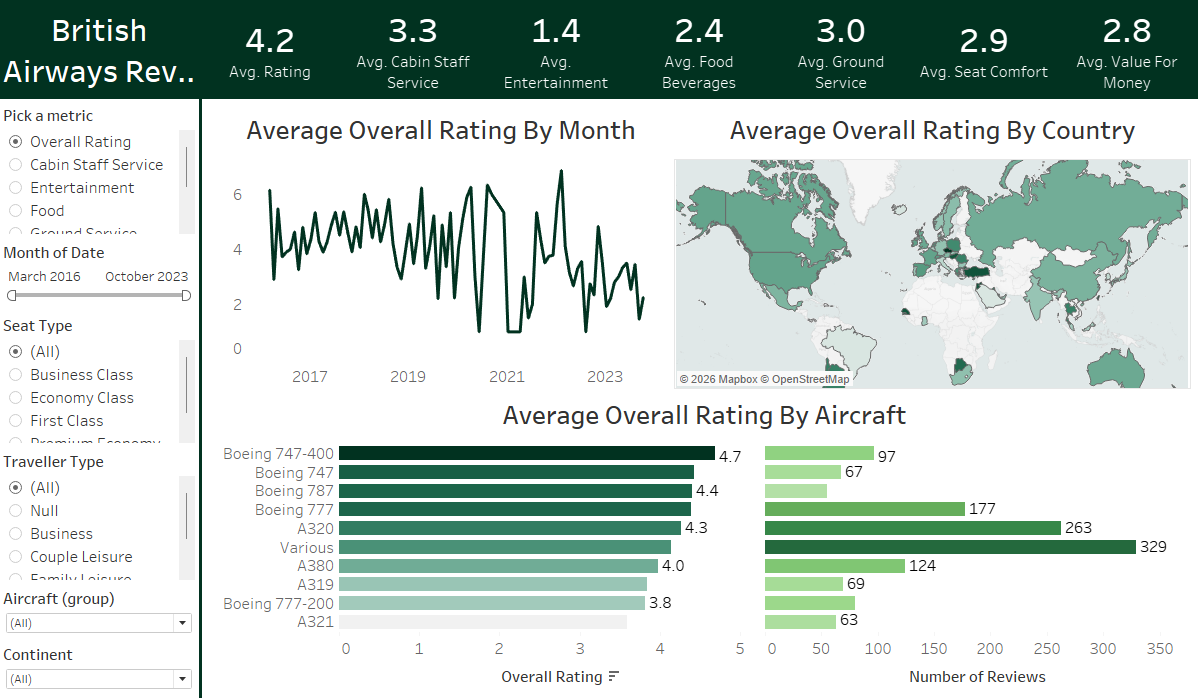

The page's visual inventory and layout, read from the dashboard file:
{"tool":"tableau","page":{"name":"Dashboard 1","canvas":[1000,1000],"units":"permille","ordinal":0},"visuals":[{"type":"text","box":[0,0,166.7,142.9]},{"type":"worksheet","title":"Sheet 2","mark":"Automatic","box":[166.7,0,824.2,142.9]},{"type":"parameter","param":"[Parameters].[Parameter 1]","box":[0,142.9,205.8,231.8]},{"type":"worksheet","title":"Sheet 1","mark":"Automatic","box":[623.3,171.4,365.8,397.1]},{"type":"worksheet","title":"Sheet 3","mark":"Automatic","rows":["Calculation_677510280068923392"],"cols":["date"],"box":[216.7,174.3,385.8,394.3]},{"type":"filter","title":"Sheet 1","param":"[federated.1mkxewg01vqxbw185bedx0hizzfn].[none:seat_type:nk]","box":[0,374.7,205.8,188.5]},{"type":"filter","title":"Sheet 1","param":"[federated.1mkxewg01vqxbw185bedx0hizzfn].[tmn:date:qk]","box":[0,563.2,205.8,68.7]},{"type":"worksheet","title":"Sheet 4","mark":"Automatic","cols":["Calculation_677510280068923392","ba_reviews.csv_0B27BDCB3CD349A2BB3D50380F4D550E"],"box":[217.5,620,773.3,378.6]},{"type":"filter","title":"Sheet 1","param":"[federated.1mkxewg01vqxbw185bedx0hizzfn].[none:traveller_type:nk]","box":[0,631.9,205.8,217.2]},{"type":"filter","title":"Sheet 1","param":"[federated.1mkxewg01vqxbw185bedx0hizzfn].[none:Continent:nk]","box":[0,849.1,205.8,76.2]},{"type":"filter","title":"Sheet 1","param":"[federated.1mkxewg01vqxbw185bedx0hizzfn].[Aircraft (group)]","box":[0,925.3,205.8,76.2]}]}

Visuals, with their boxes on the dashboard's canvas, which has no fixed pixel size, in thousandths of its width and height (x1, y1, x2, y2). These are canvas units, not pixel positions in the 1198x698 screenshot, which may show the page scaled, cropped or inside an application window:
text: (0,0,167,143)
"Sheet 2" worksheet: (167,0,991,143)
parameter: (0,143,206,375)
"Sheet 1" worksheet: (623,171,989,568)
"Sheet 3" worksheet: (217,174,602,569)
"Sheet 1" filter: (0,375,206,563)
"Sheet 1" filter: (0,563,206,632)
"Sheet 4" worksheet: (218,620,991,999)
"Sheet 1" filter: (0,632,206,849)
"Sheet 1" filter: (0,849,206,925)
"Sheet 1" filter: (0,925,206,1002)
